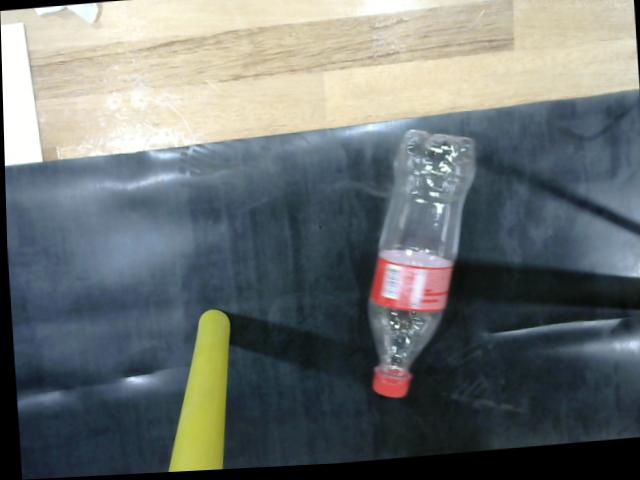bottle: (358, 126, 491, 412)
